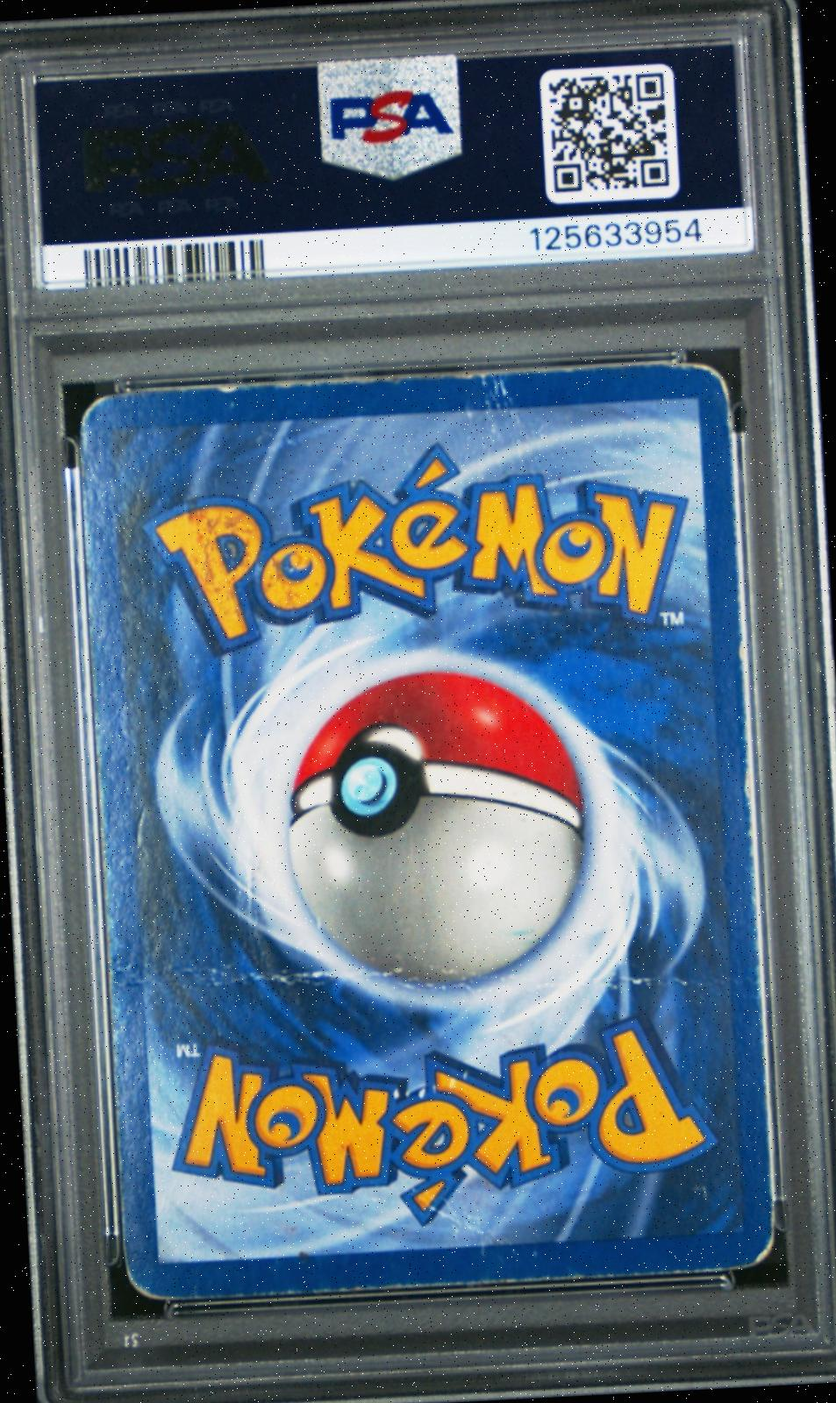card-2UtV: (78, 361, 776, 1301)
